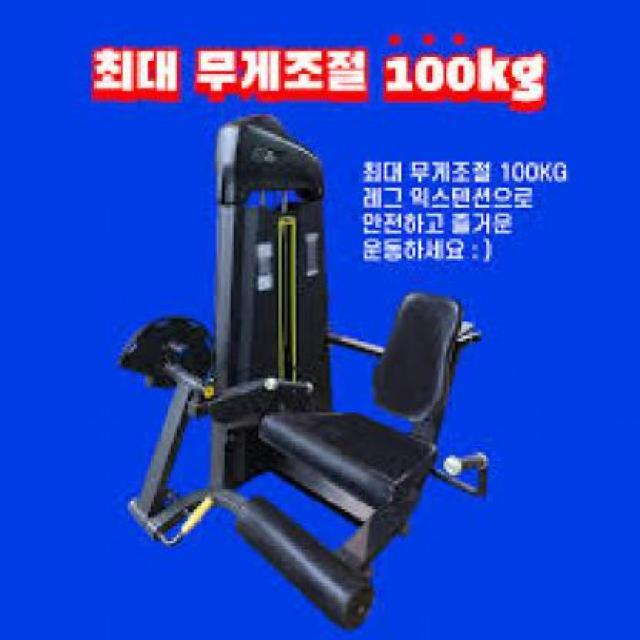leg extension: (101, 107, 498, 640)
